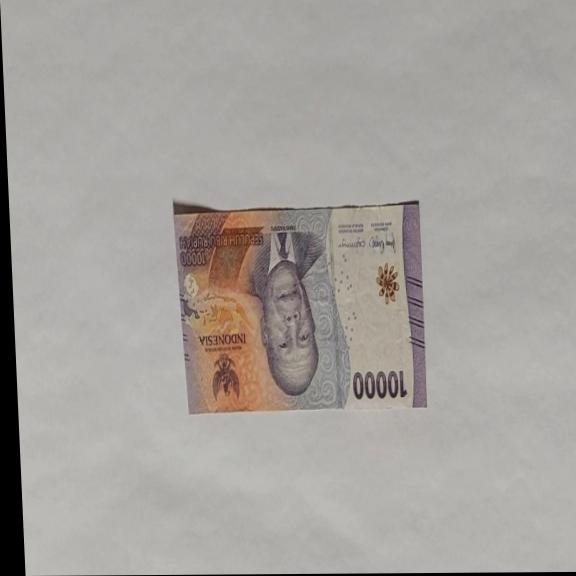Kertas: (172, 198, 428, 414)
